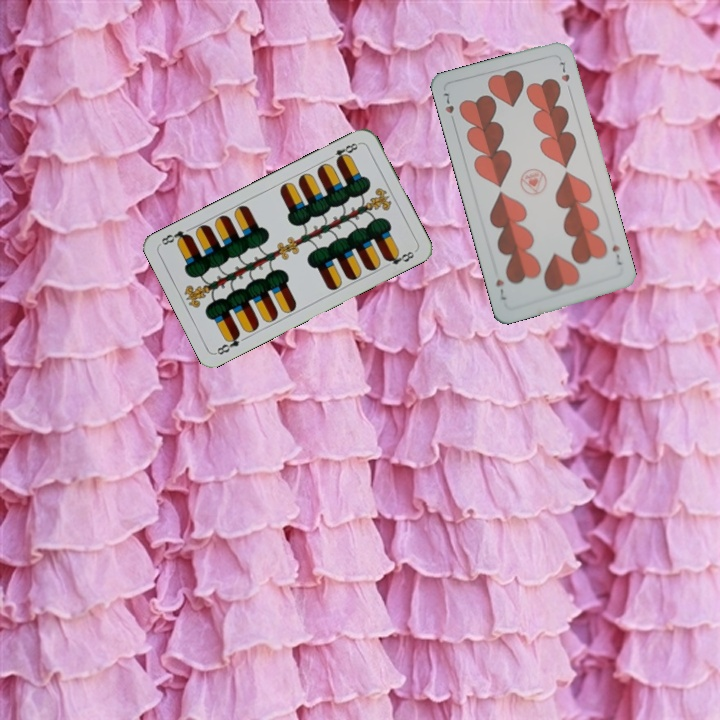E8: (324, 139, 363, 165), (212, 329, 243, 357)
H7: (439, 87, 457, 127), (608, 241, 624, 268)
